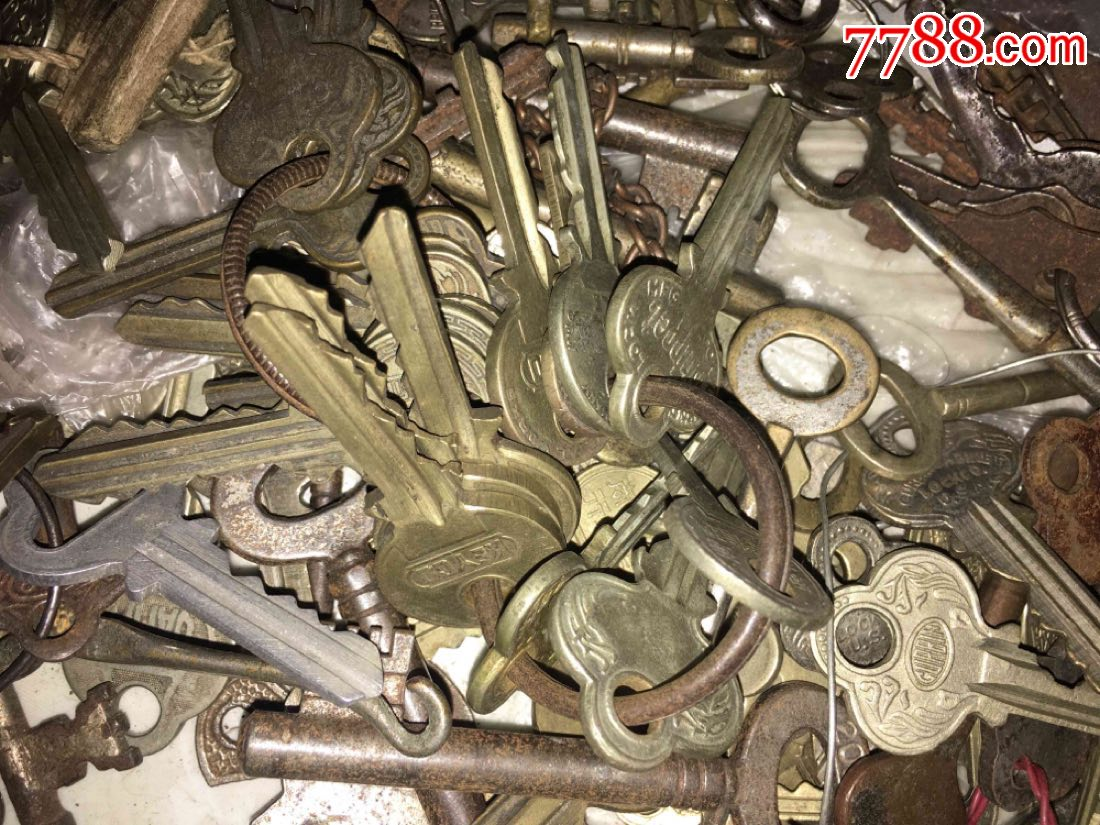key: (2, 439, 417, 729), (264, 308, 573, 643), (610, 89, 804, 461), (830, 522, 1100, 768)
